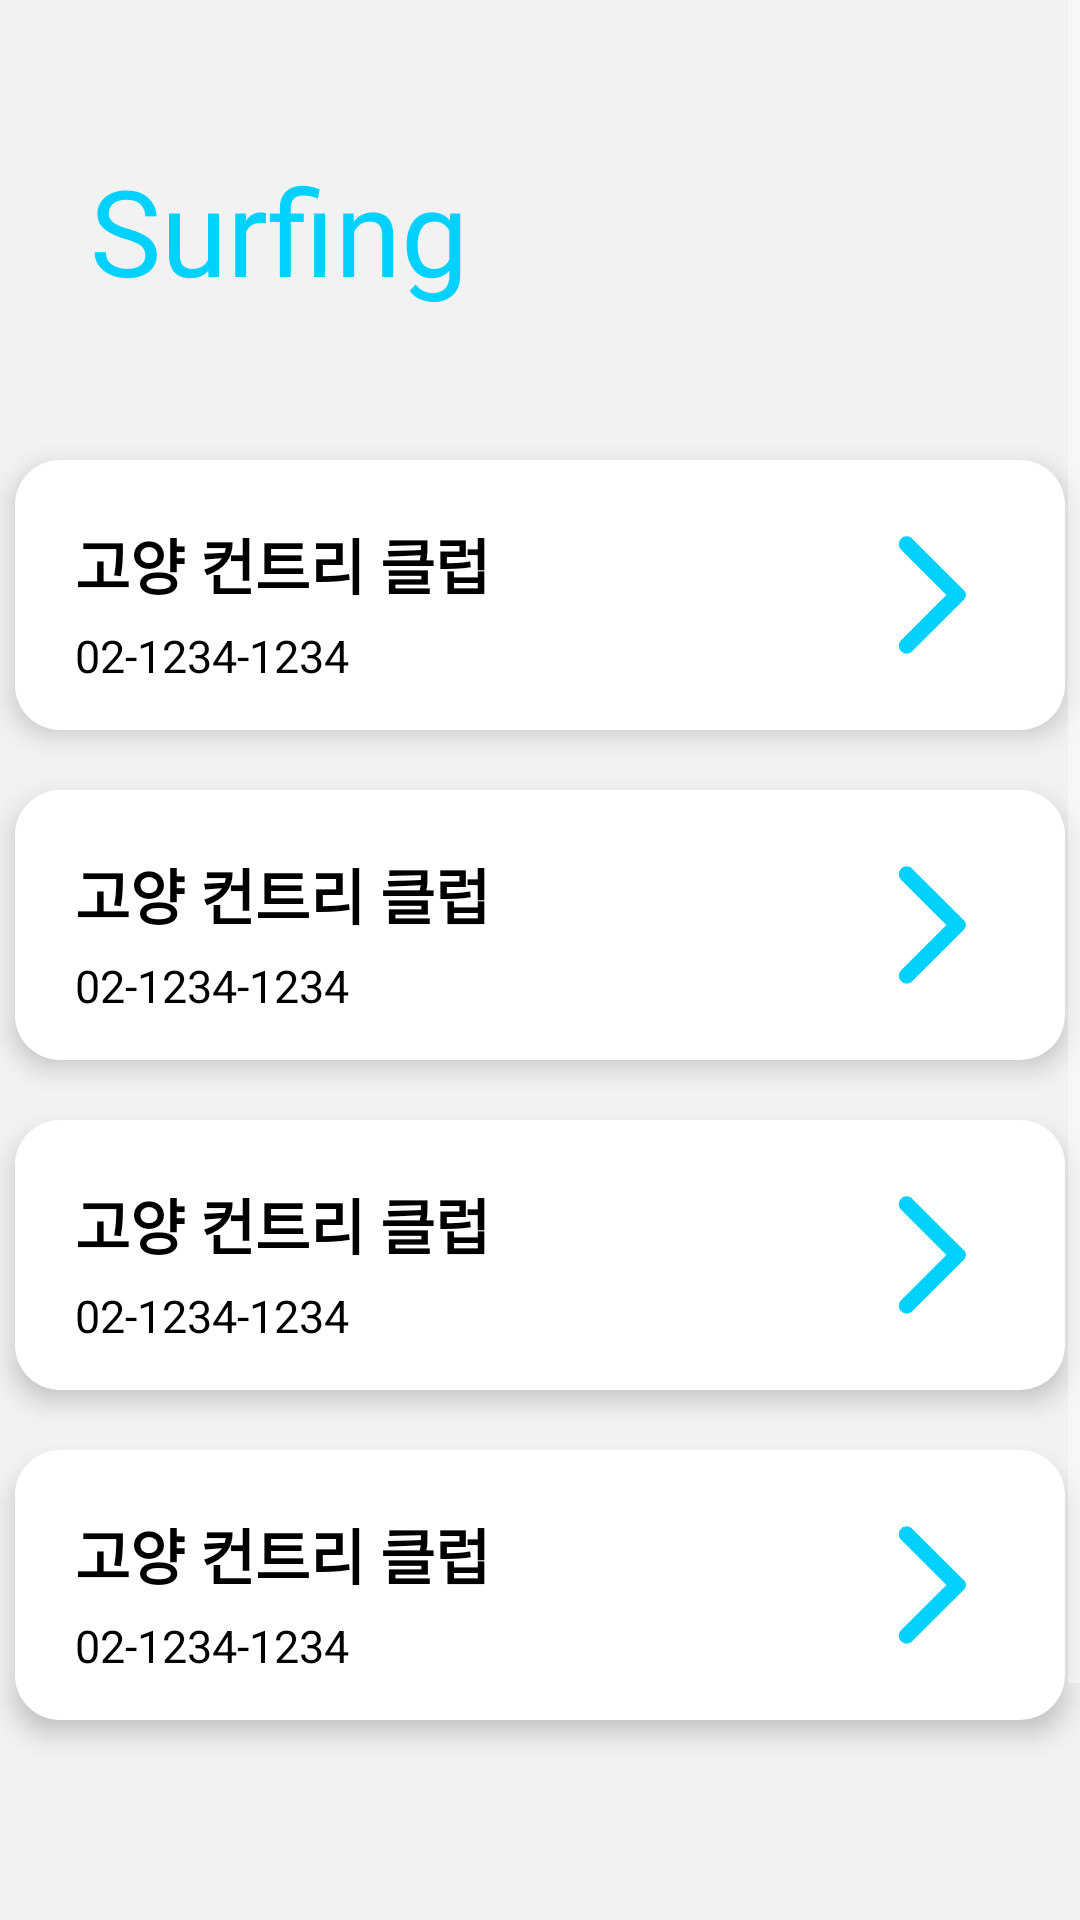

Icon click points for this 1080px x 1920px phone screenshot, format (x,y):
arrow: (932,595), (932,925), (932,1255), (932,1585)
